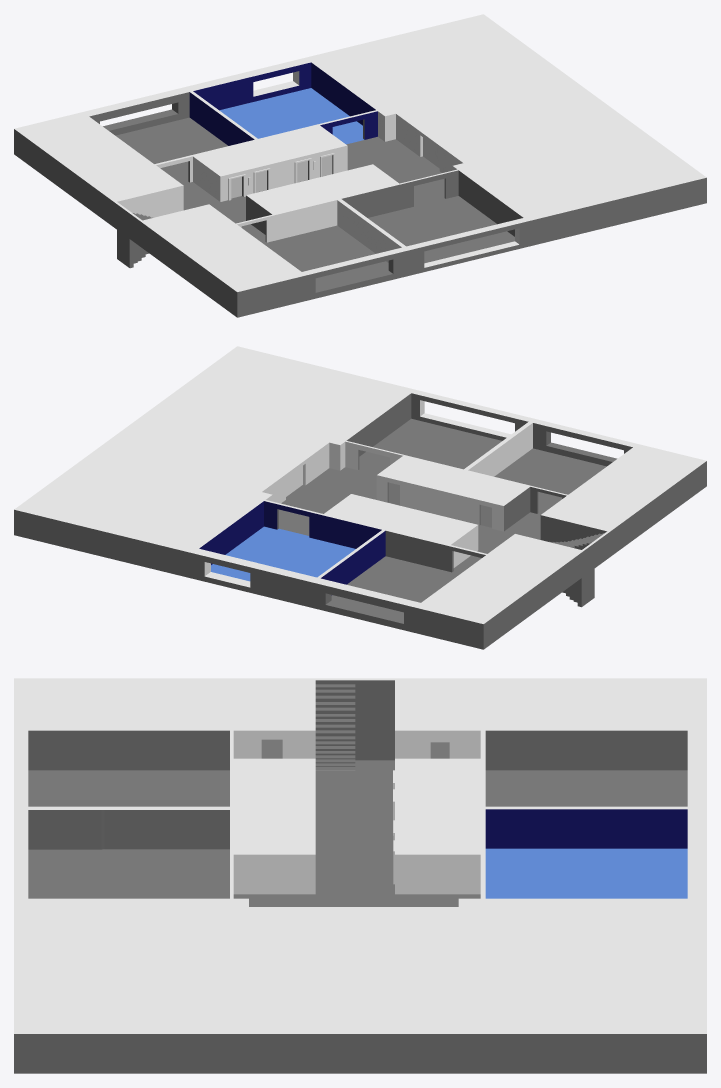
File: tnhmanagement.gltf
The picture shows the model from 3 angles, top to bottom: view 1: azimuth 30°, elevation 25°; view 2: azimuth 150°, elevation 25°; view 3: azimuth 270°, elevation 25°; orthographic projection. The views are drawn at different scales.
Visible parts, largest first — view 1: root; view 2: root; view 3: root.
Boxes of the visible parts, x1,y1,x2,y2 form: root: (14, 14, 706, 317); root: (14, 346, 706, 649); root: (14, 678, 706, 1073).
Bounding box in the file's own units: 44.7 × 5.2 × 36.81.
